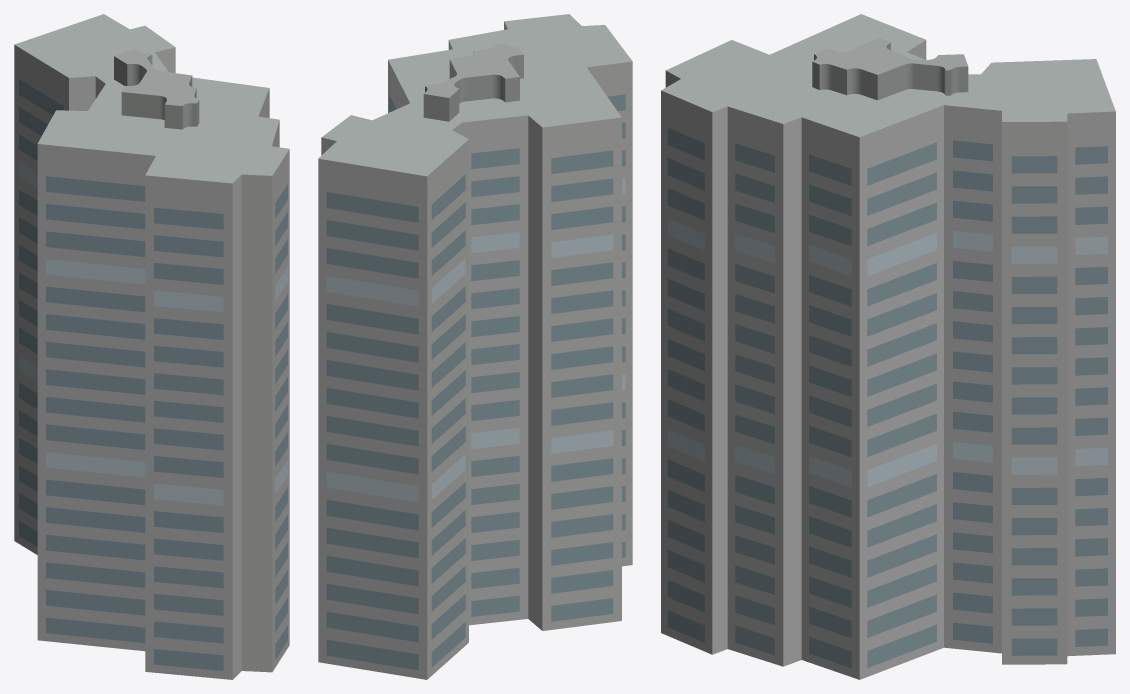
Rendered from fallback-godeok-central-ipark-509.glb.
3 views of the same model, side by side, from view 1: azimuth 30°, elevation 25°; view 2: azimuth 150°, elevation 25°; view 3: azimuth 270°, elevation 25° (orthographic). The views are drawn at different scales.
Parts seen in each view (by area): view 1: fallback-godeok-central-ipark-509; view 2: fallback-godeok-central-ipark-509; view 3: fallback-godeok-central-ipark-509.
Part boxes in pixels (x1,y1,x2,y2): fallback-godeok-central-ipark-509: [14, 14, 289, 679]; fallback-godeok-central-ipark-509: [318, 14, 632, 679]; fallback-godeok-central-ipark-509: [661, 14, 1115, 679].
Size of the model in its own units: 24.68 by 53 by 38.45.
